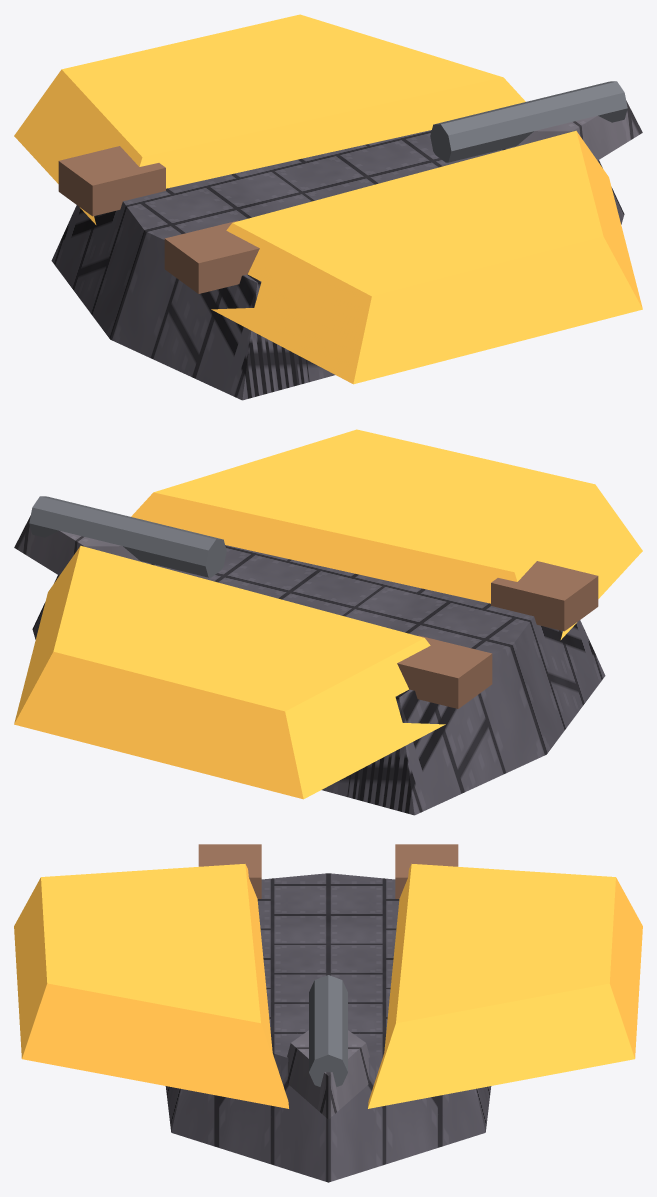
The model's file is bulwark_ember.glb.
3 renders of one model, top to bottom at view 1: azimuth 30°, elevation 25°; view 2: azimuth 150°, elevation 25°; view 3: azimuth 270°, elevation 25°, orthographic. The views are drawn at different scales.
Bounding box in the file's own units: 14.5 × 3.5 × 16.
5 materials, 2 textured.
